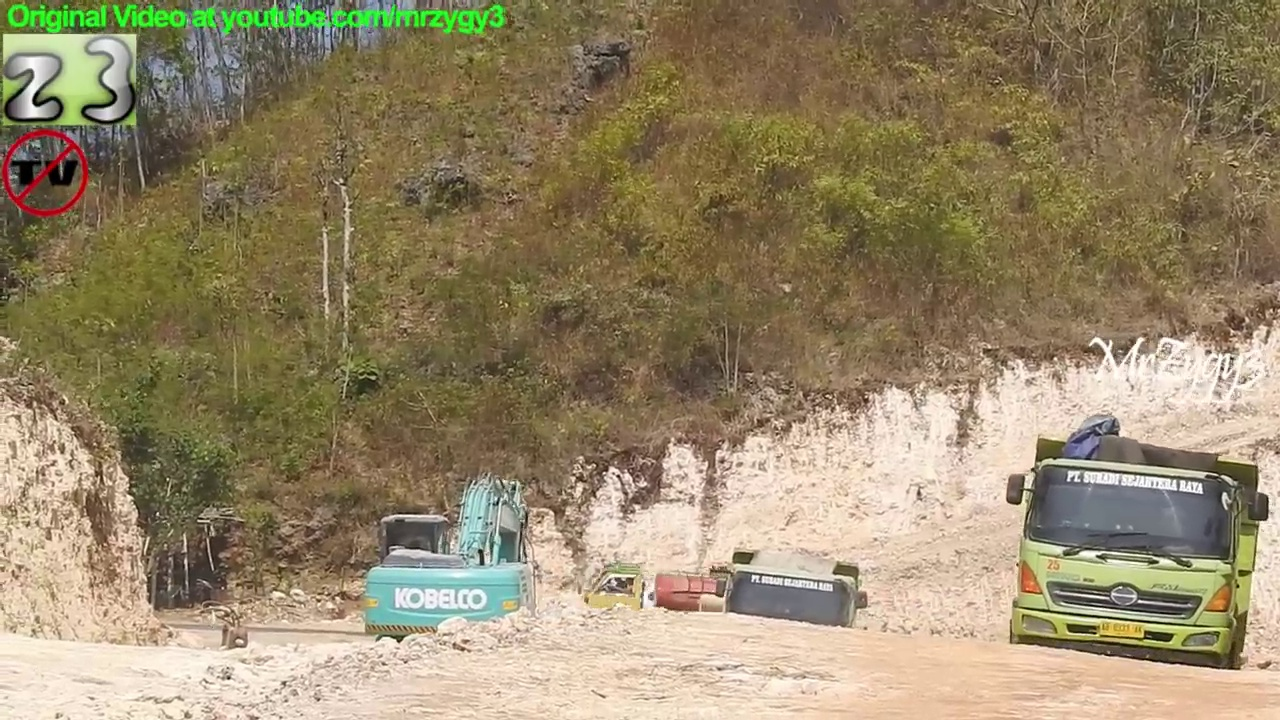excavator: (358, 465, 547, 672)
truck: (1002, 428, 1275, 693), (575, 557, 833, 651), (710, 543, 872, 686)
